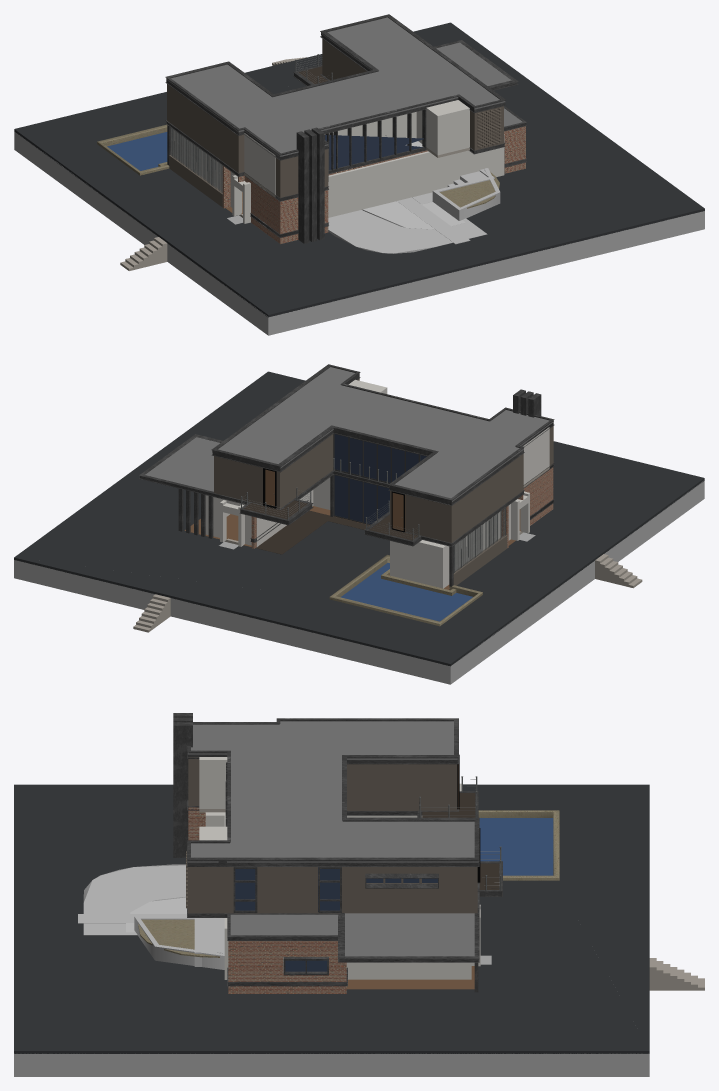
File: pool-villa.zfix-v3.lod0.glb
The picture shows the model from 3 angles, top to bottom: view 1: azimuth 30°, elevation 25°; view 2: azimuth 150°, elevation 25°; view 3: azimuth 270°, elevation 25°; orthographic projection. The views are drawn at different scales.
Visible parts, largest first — view 1: Rectangle001_Material #26_0, Box001_Material #8_0, Line001_Material #1_0, Line064_Material #3_0, Cylinder001_Material #7_0; view 2: Rectangle001_Material #26_0, Box001_Material #8_0, Cylinder001_Material #7_0, Line064_Material #3_0, Line001_Material #1_0; view 3: Rectangle001_Material #26_0, Box001_Material #8_0, Line001_Material #1_0, Line064_Material #3_0.
Part boxes in pixels (x1,y1,x2,y2): Rectangle001_Material #26_0: (14,17,704,335); Box001_Material #8_0: (165,14,526,243); Line001_Material #1_0: (222,126,525,243); Line064_Material #3_0: (97,124,499,208); Cylinder001_Material #7_0: (171,54,332,192); Rectangle001_Material #26_0: (14,367,704,684); Box001_Material #8_0: (139,364,554,586); Cylinder001_Material #7_0: (241,458,505,573); Line064_Material #3_0: (329,554,482,626); Line001_Material #1_0: (251,467,553,548); Rectangle001_Material #26_0: (14,721,704,1076); Box001_Material #8_0: (173,713,502,992); Line001_Material #1_0: (188,807,346,993); Line064_Material #3_0: (138,810,559,957).
Size of the model in its own units: 37.75 by 9.62 by 38.05.
Materials: 6 (4 with a texture image).
